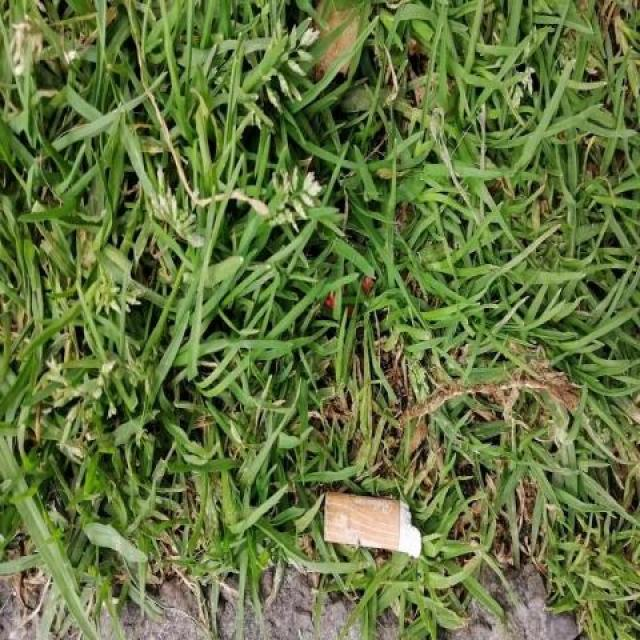non-organic waste: (317, 488, 426, 560)
